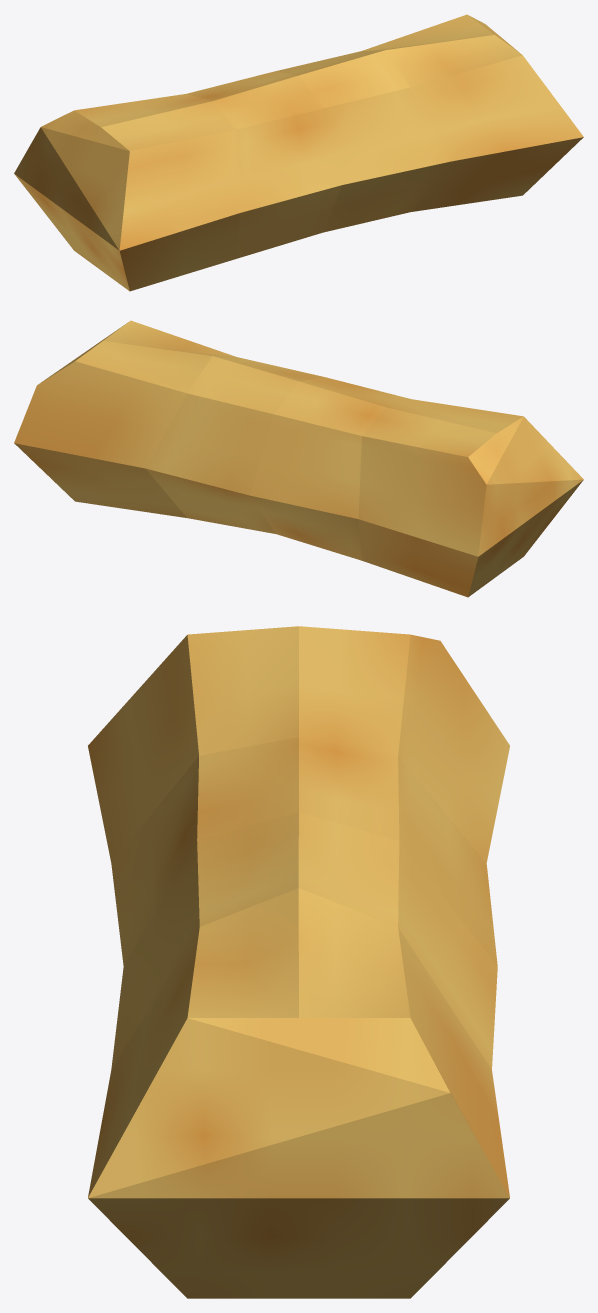
File: spring_roll.obj
The picture shows the model from 3 angles, top to bottom: view 1: azimuth 30°, elevation 25°; view 2: azimuth 150°, elevation 25°; view 3: azimuth 270°, elevation 25°; orthographic projection. The views are drawn at different scales.
Parts seen in each view (by area): view 1: Cylinder_Mesh; view 2: Cylinder_Mesh; view 3: Cylinder_Mesh.
Part boxes in pixels (x1,y1,x2,y2): Cylinder_Mesh: (14,14,583,291); Cylinder_Mesh: (14,320,583,597); Cylinder_Mesh: (88,626,509,1298).
Size of the model in its own units: 0.1091 by 0.0341 by 0.043.
